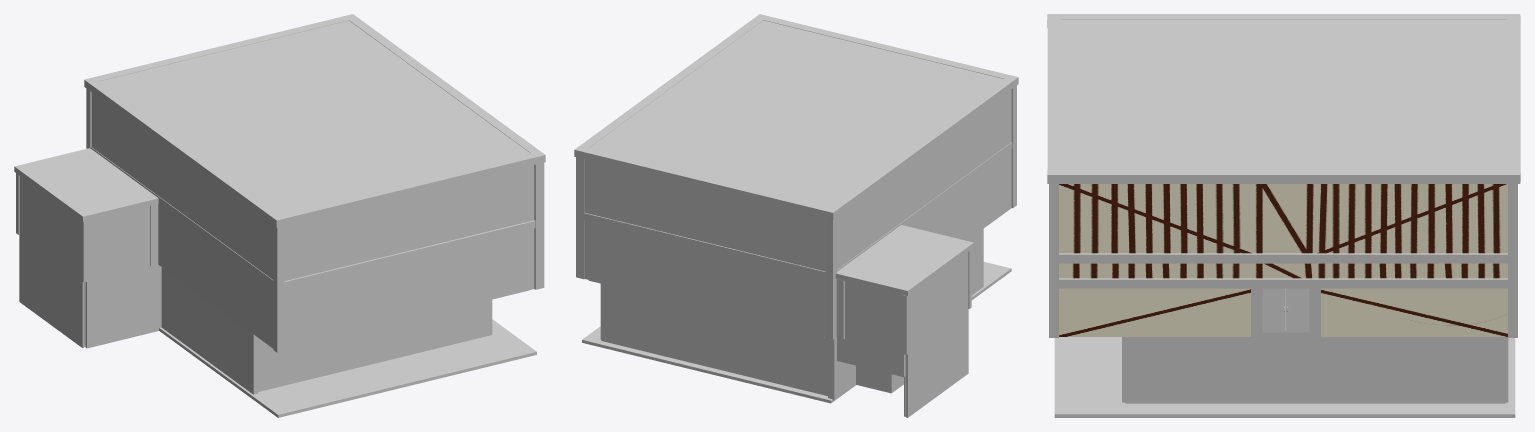
Rendered from EmporiumUVComplete.fbx.
3 renders of one model, left to right at view 1: azimuth 30°, elevation 25°; view 2: azimuth 150°, elevation 25°; view 3: azimuth 270°, elevation 25°, orthographic. The views are drawn at different scales.
Visible parts, largest first — view 1: TopCeiling, LeftWall, BackWall, BasementFloor, BasementWallLeft, StairWellLeftOutside, StairWellBackoutside, BasementWallBackLeft, StairWellRoofOutside, BackTopBeam, LeftTopBeam, LeftCenterBeam (+7 smaller); view 2: TopCeiling, RightWall, BackWall, BasementWallRight, StairWellBackoutside, StairWellRoofOutside, StairWellRightOutside, RightTopBeam, BackTopBeam, BasementFloor, RightCenterBeam, FrontTopBeam (+10 smaller); view 3: TopCeiling, FrontWall, BasementWallFront, BasementFloor, FrontTopBeam, FrontDoorwayBeam, FrontCenterBeam, BackTopBeam, RightTopBeam, LeftTopBeam, FrontLeftBeam, FrontRightBeam (+4 smaller).
Part boxes in pixels (left/top/right/bottom): TopCeiling: left=99, top=20, right=529, bottom=214; LeftWall: left=284, top=165, right=534, bottom=349; BackWall: left=91, top=92, right=273, bottom=348; BasementFloor: left=159, top=319, right=536, bottom=417; BasementWallLeft: left=258, top=299, right=492, bottom=391; StairWellLeftOutside: left=86, top=206, right=158, bottom=348; StairWellBackoutside: left=19, top=176, right=84, bottom=348; BasementWallBackLeft: left=161, top=267, right=258, bottom=394; StairWellRoofOutside: left=14, top=148, right=158, bottom=221; BackTopBeam: left=84, top=77, right=285, bottom=227; LeftTopBeam: left=281, top=153, right=536, bottom=225; LeftCenterBeam: left=284, top=220, right=535, bottom=288; TopCeiling: left=589, top=20, right=1003, bottom=206; RightWall: left=584, top=159, right=825, bottom=337; BackWall: left=837, top=89, right=1011, bottom=269; BasementWallRight: left=601, top=284, right=827, bottom=395; StairWellBackoutside: left=906, top=252, right=968, bottom=417; StairWellRoofOutside: left=835, top=225, right=973, bottom=295; StairWellRightOutside: left=837, top=281, right=904, bottom=377; RightTopBeam: left=578, top=147, right=829, bottom=218; BackTopBeam: left=824, top=75, right=1018, bottom=219; BasementFloor: left=582, top=262, right=1011, bottom=403; RightCenterBeam: left=584, top=213, right=825, bottom=278; FrontTopBeam: left=574, top=14, right=768, bottom=157; TopCeiling: left=1061, top=20, right=1507, bottom=169; FrontWall: left=1059, top=184, right=1507, bottom=336; BasementWallFront: left=1125, top=334, right=1505, bottom=403; BasementFloor: left=1054, top=337, right=1515, bottom=417; FrontTopBeam: left=1047, top=169, right=1520, bottom=183; FrontDoorwayBeam: left=1059, top=278, right=1507, bottom=288; FrontCenterBeam: left=1059, top=253, right=1507, bottom=263; BackTopBeam: left=1047, top=14, right=1520, bottom=27; RightTopBeam: left=1507, top=16, right=1520, bottom=181; LeftTopBeam: left=1047, top=19, right=1060, bottom=169; FrontLeftBeam: left=1049, top=184, right=1058, bottom=337; FrontRightBeam: left=1508, top=184, right=1517, bottom=337.
Size of the model in its own units: 2704 by 1513 by 2635.
